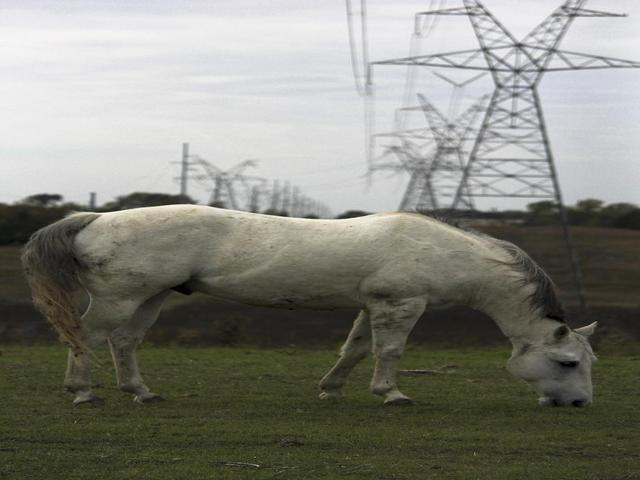horse: (12, 129, 640, 437)
